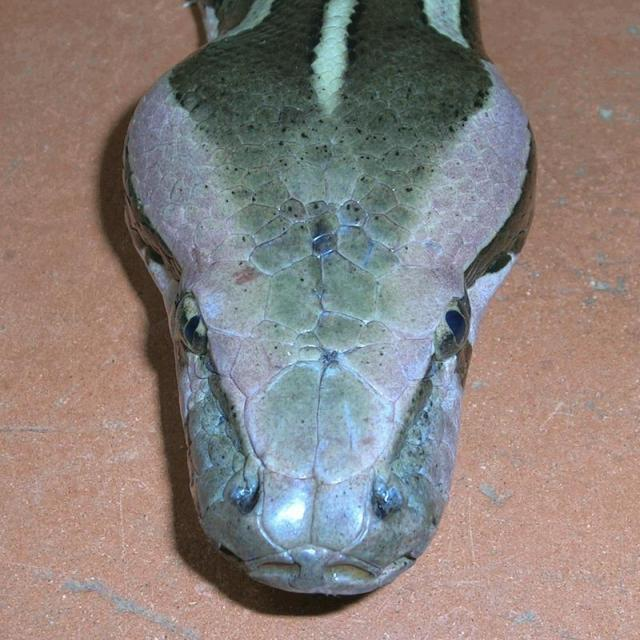Snake: (119, 0, 538, 598)
